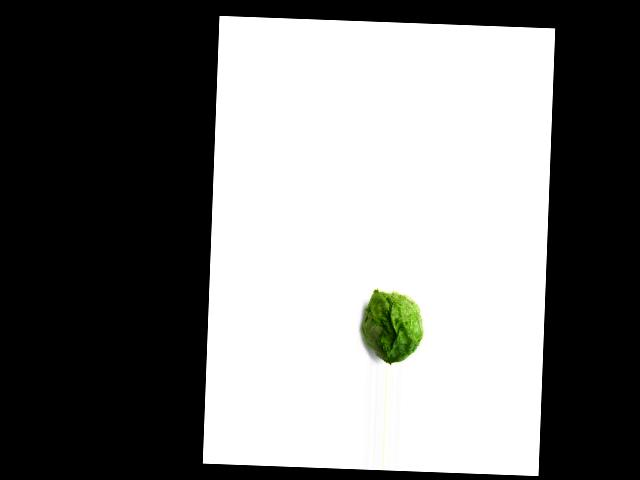lettuce: (356, 289, 429, 364)
